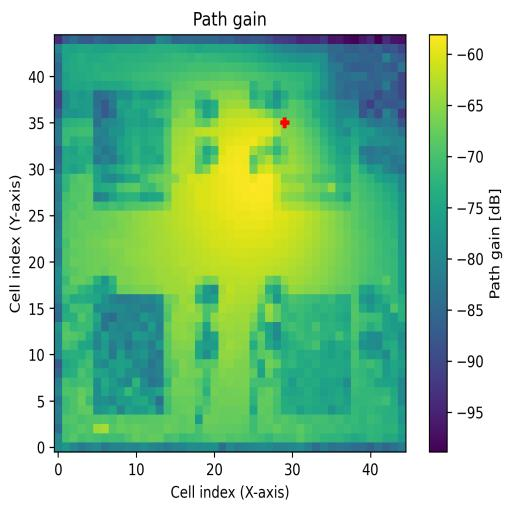Concrete: (274, 89, 352, 211)
Glass: (94, 91, 172, 209)
Metal: (281, 294, 352, 414)
Wood: (93, 294, 165, 414)
